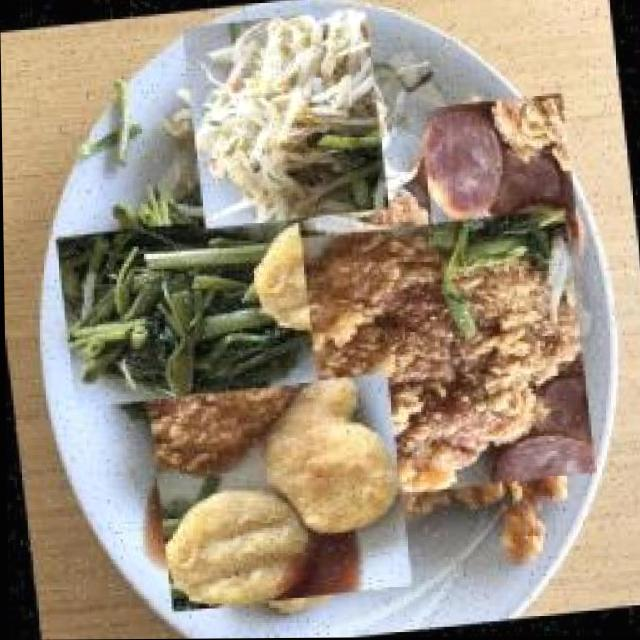chicken_nuggets: (152, 368, 405, 619)
chinese_sausage: (419, 95, 587, 306)
fried_chicken: (264, 199, 586, 518)
mung_bean_sprouts: (178, 13, 394, 227)
water_spinach: (70, 193, 303, 425)
